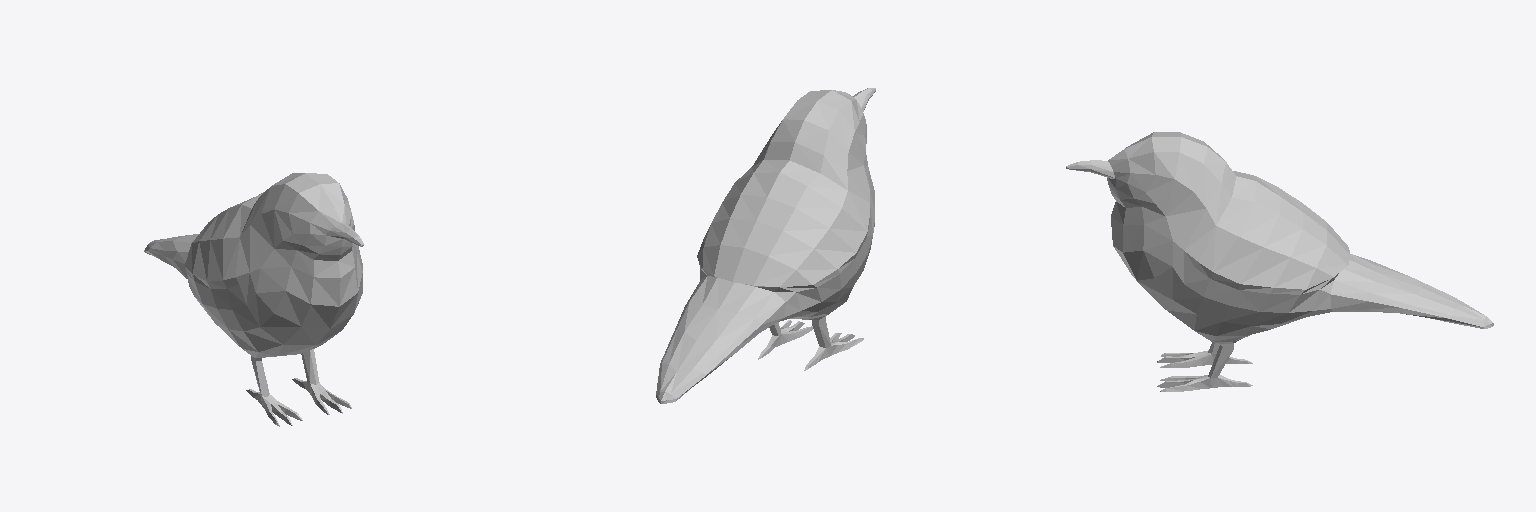
File: cactusWren.obj
The picture shows the model from 3 angles: view 1: azimuth 30°, elevation 25°; view 2: azimuth 150°, elevation 25°; view 3: azimuth 270°, elevation 25°; orthographic projection.
Visible parts, largest first — view 1: CactusWren_Mesh; view 2: CactusWren_Mesh; view 3: CactusWren_Mesh.
Part boxes in pixels (x1,y1,x2,y2): CactusWren_Mesh: (144,173,363,426); CactusWren_Mesh: (656,88,875,403); CactusWren_Mesh: (1066,132,1493,391).
Size of the model in its own units: 0.6622 by 1.1 by 1.78.